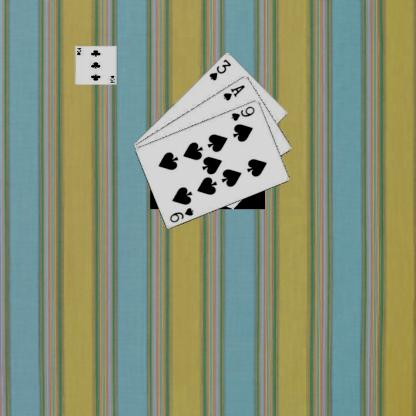3S: (207, 56, 232, 82)
9S: (229, 103, 256, 121), (168, 205, 194, 223)
AS: (221, 82, 246, 102)
